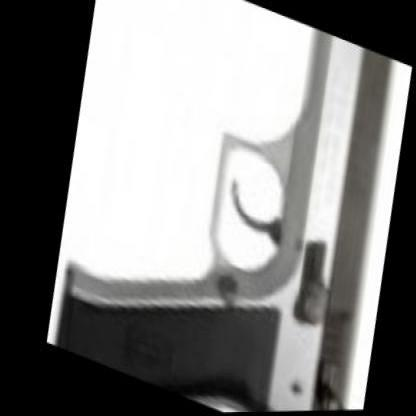pistol: (17, 0, 415, 415)
